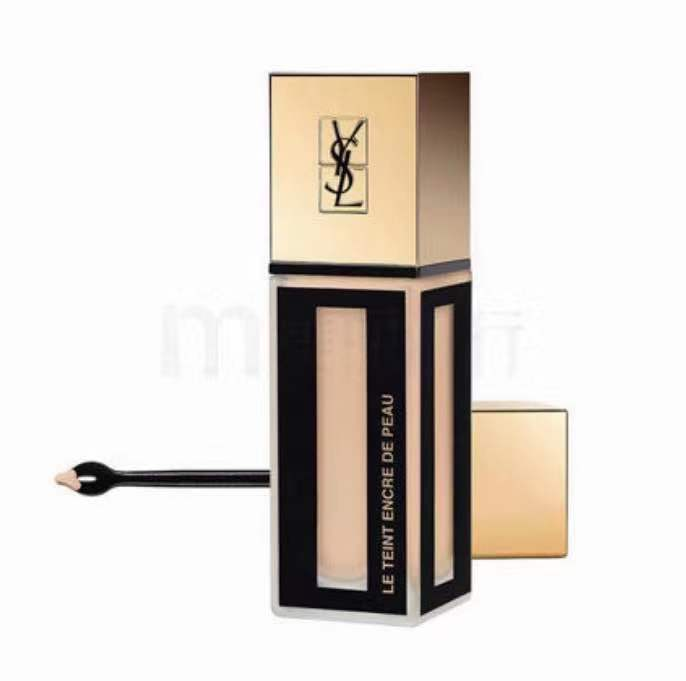cosmetic: (271, 74, 476, 620)
